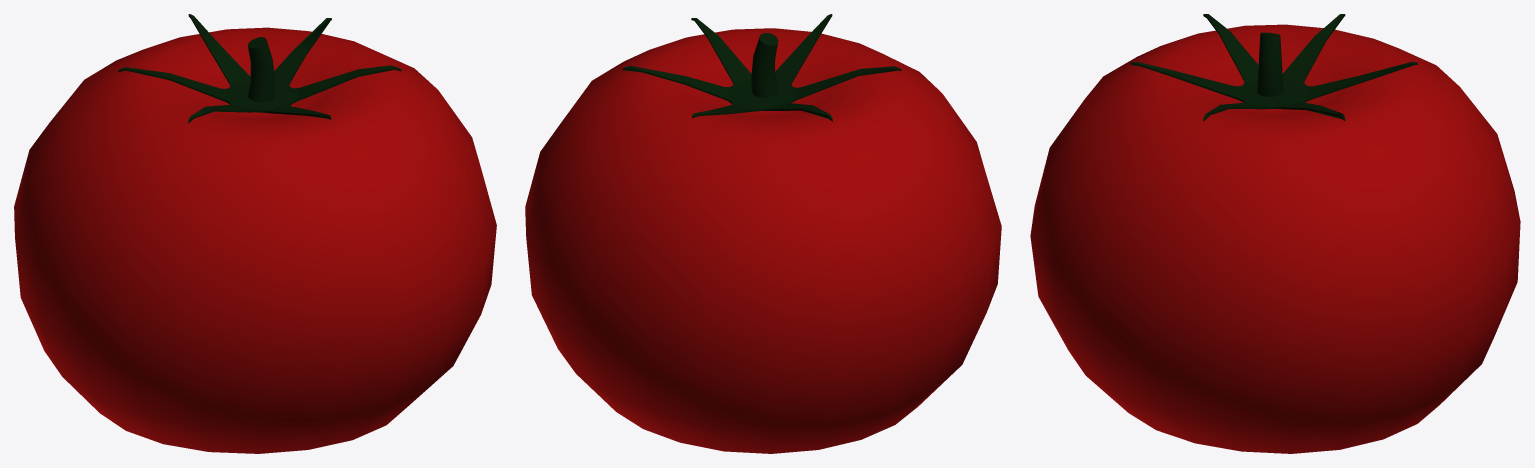
Rendered from Tomato.fbx.
The picture shows the model from 3 angles, left to right: view 1: azimuth 30°, elevation 25°; view 2: azimuth 150°, elevation 25°; view 3: azimuth 270°, elevation 25°; orthographic projection. The views are drawn at different scales.
Visible parts, largest first — view 1: Tomato, Leaf; view 2: Tomato, Leaf; view 3: Tomato, Leaf.
Part boxes in pixels (x1,y1,x2,y2): Tomato: (14,27,496,453); Leaf: (118,14,401,123); Tomato: (525,28,1001,453); Leaf: (622,14,901,121); Tomato: (1030,24,1520,453); Leaf: (1130,14,1417,121).
Size of the model in its own units: 4.66 by 4.01 by 4.67.
